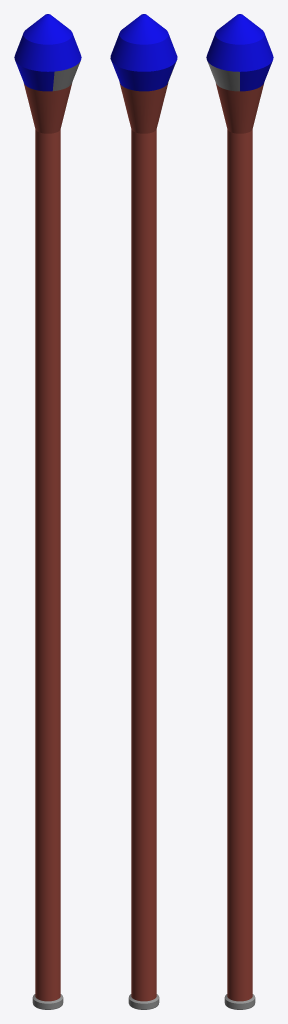
File: staff.fbx
3 views of the same model, side by side, from view 1: azimuth 90°, elevation 25°; view 2: azimuth 150°, elevation 25°; view 3: azimuth 270°, elevation 25° (orthographic).
Visible parts, largest first — view 1: Cylinder; view 2: Cylinder; view 3: Cylinder.
Boxes of the visible parts, x1=… form: Cylinder: x1=14, y1=14, x2=81, y2=1009; Cylinder: x1=110, y1=14, x2=177, y2=1009; Cylinder: x1=206, y1=14, x2=273, y2=1009.
Bounding box in the file's own units: 8.88 × 144 × 8.88.
